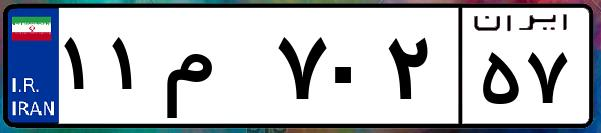0: (330, 28, 385, 110)
1: (57, 26, 110, 100), (110, 28, 158, 98)
2: (385, 28, 445, 110)
5: (475, 38, 525, 113)
7: (270, 28, 330, 110), (525, 38, 570, 115)
م: (158, 20, 270, 120)
